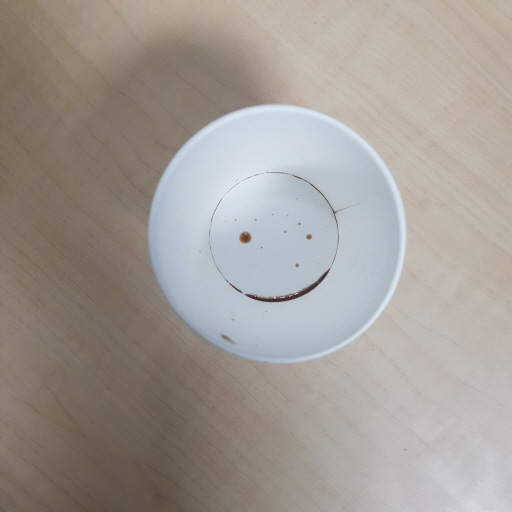Paper_1: (144, 102, 411, 366)
